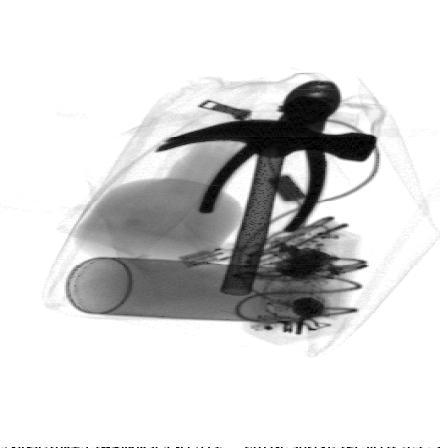Hammer: (153, 117, 381, 298)
Pliers: (196, 79, 342, 233)
